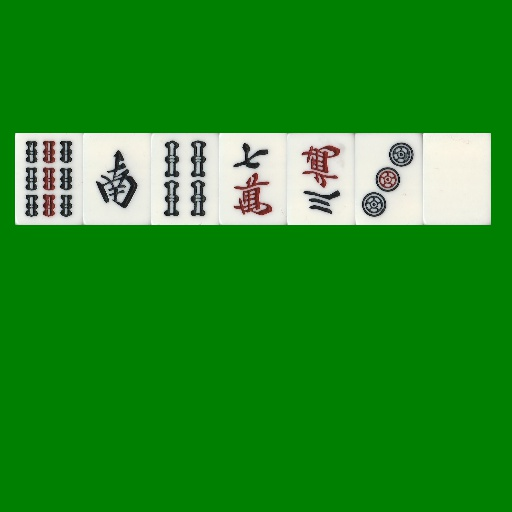3m: (287, 133, 355, 225)
3p: (355, 133, 423, 225)
4s: (151, 133, 219, 225)
7m: (219, 133, 287, 225)
9s: (15, 133, 83, 225)
south: (83, 133, 151, 225)
white: (423, 133, 491, 225)
